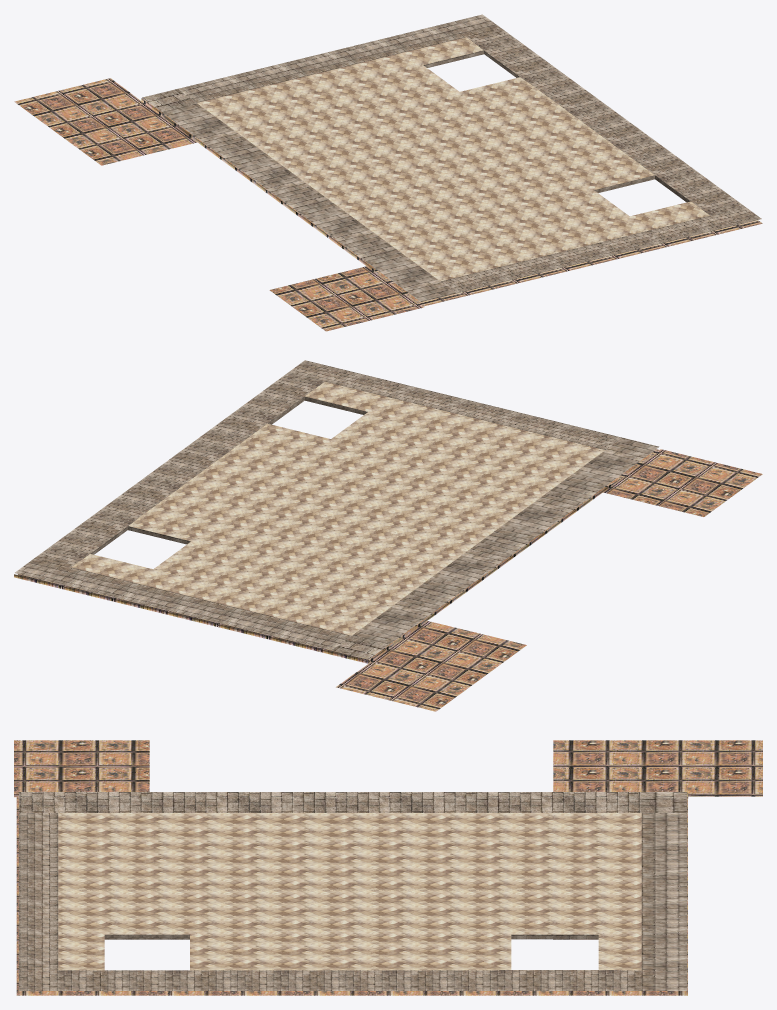
3 renders of one model, top to bottom at view 1: azimuth 30°, elevation 25°; view 2: azimuth 150°, elevation 25°; view 3: azimuth 270°, elevation 25°, orthographic. The views are drawn at different scales.
Parts seen in each view (by area): view 1: Object89; view 2: Object89; view 3: Object89.
Part boxes in pixels (bbox=[...]): Object89: bbox=[14, 14, 762, 331]; Object89: bbox=[14, 360, 762, 711]; Object89: bbox=[14, 740, 762, 995].
Size of the model in its own units: 732 by 6.52 by 906.
